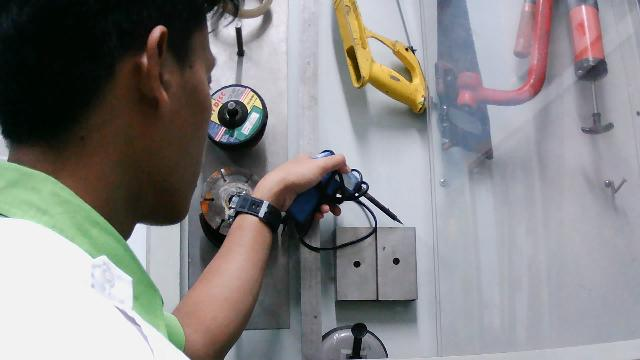solder_electrical: (275, 146, 405, 254)
